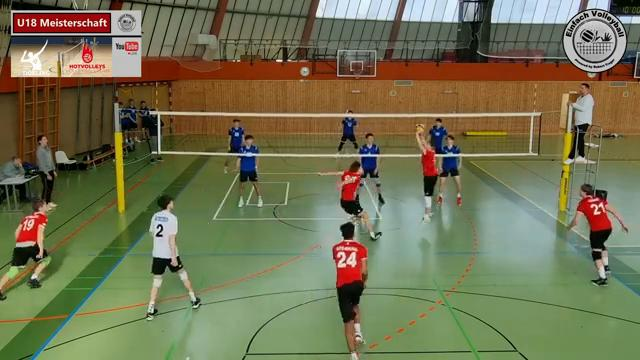Player: (146, 195, 200, 319), (568, 184, 627, 285), (318, 161, 381, 240), (332, 222, 367, 359), (0, 200, 50, 289), (235, 135, 262, 207), (359, 133, 384, 204), (437, 135, 461, 205), (338, 110, 357, 153), (429, 118, 447, 152), (228, 119, 244, 153)
Set: (408, 123, 440, 227)
ball: (415, 123, 425, 133)
